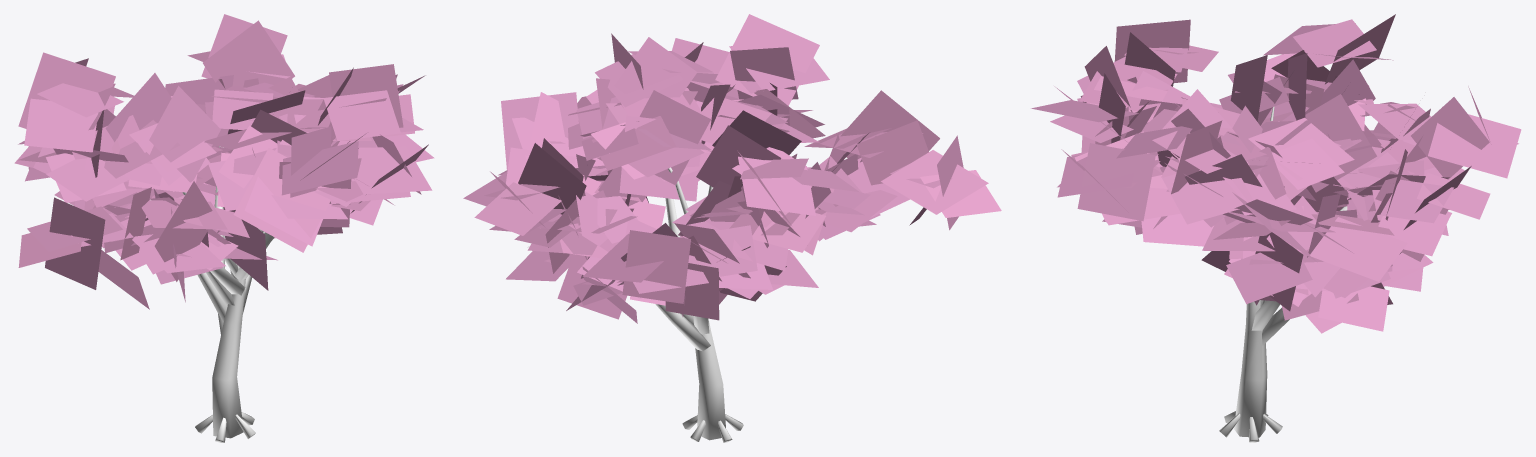
The model's file is SM_Sakura_Spread_LOD2.fbx.
3 views of the same model, side by side, from view 1: azimuth 30°, elevation 25°; view 2: azimuth 150°, elevation 25°; view 3: azimuth 270°, elevation 25° (orthographic). The views are drawn at different scales.
Parts seen in each view (by area): view 1: SM_Sakura_Spread_LOD2; view 2: SM_Sakura_Spread_LOD2; view 3: SM_Sakura_Spread_LOD2.
Boxes of the visible parts, x1,y1,x2,y2 form: SM_Sakura_Spread_LOD2: [14, 14, 434, 442]; SM_Sakura_Spread_LOD2: [463, 14, 1001, 442]; SM_Sakura_Spread_LOD2: [1031, 14, 1521, 442].
Size of the model in its own units: 8.02 by 7.23 by 6.04.
